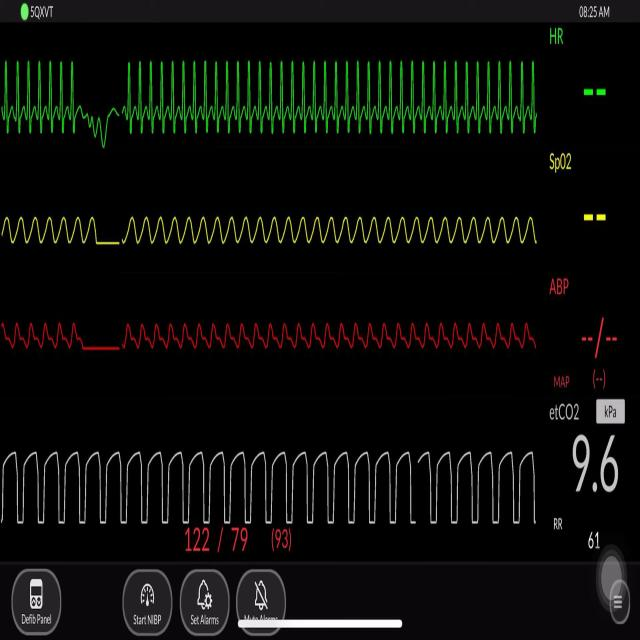danger: (123, 45, 541, 144), (1, 45, 80, 146)
